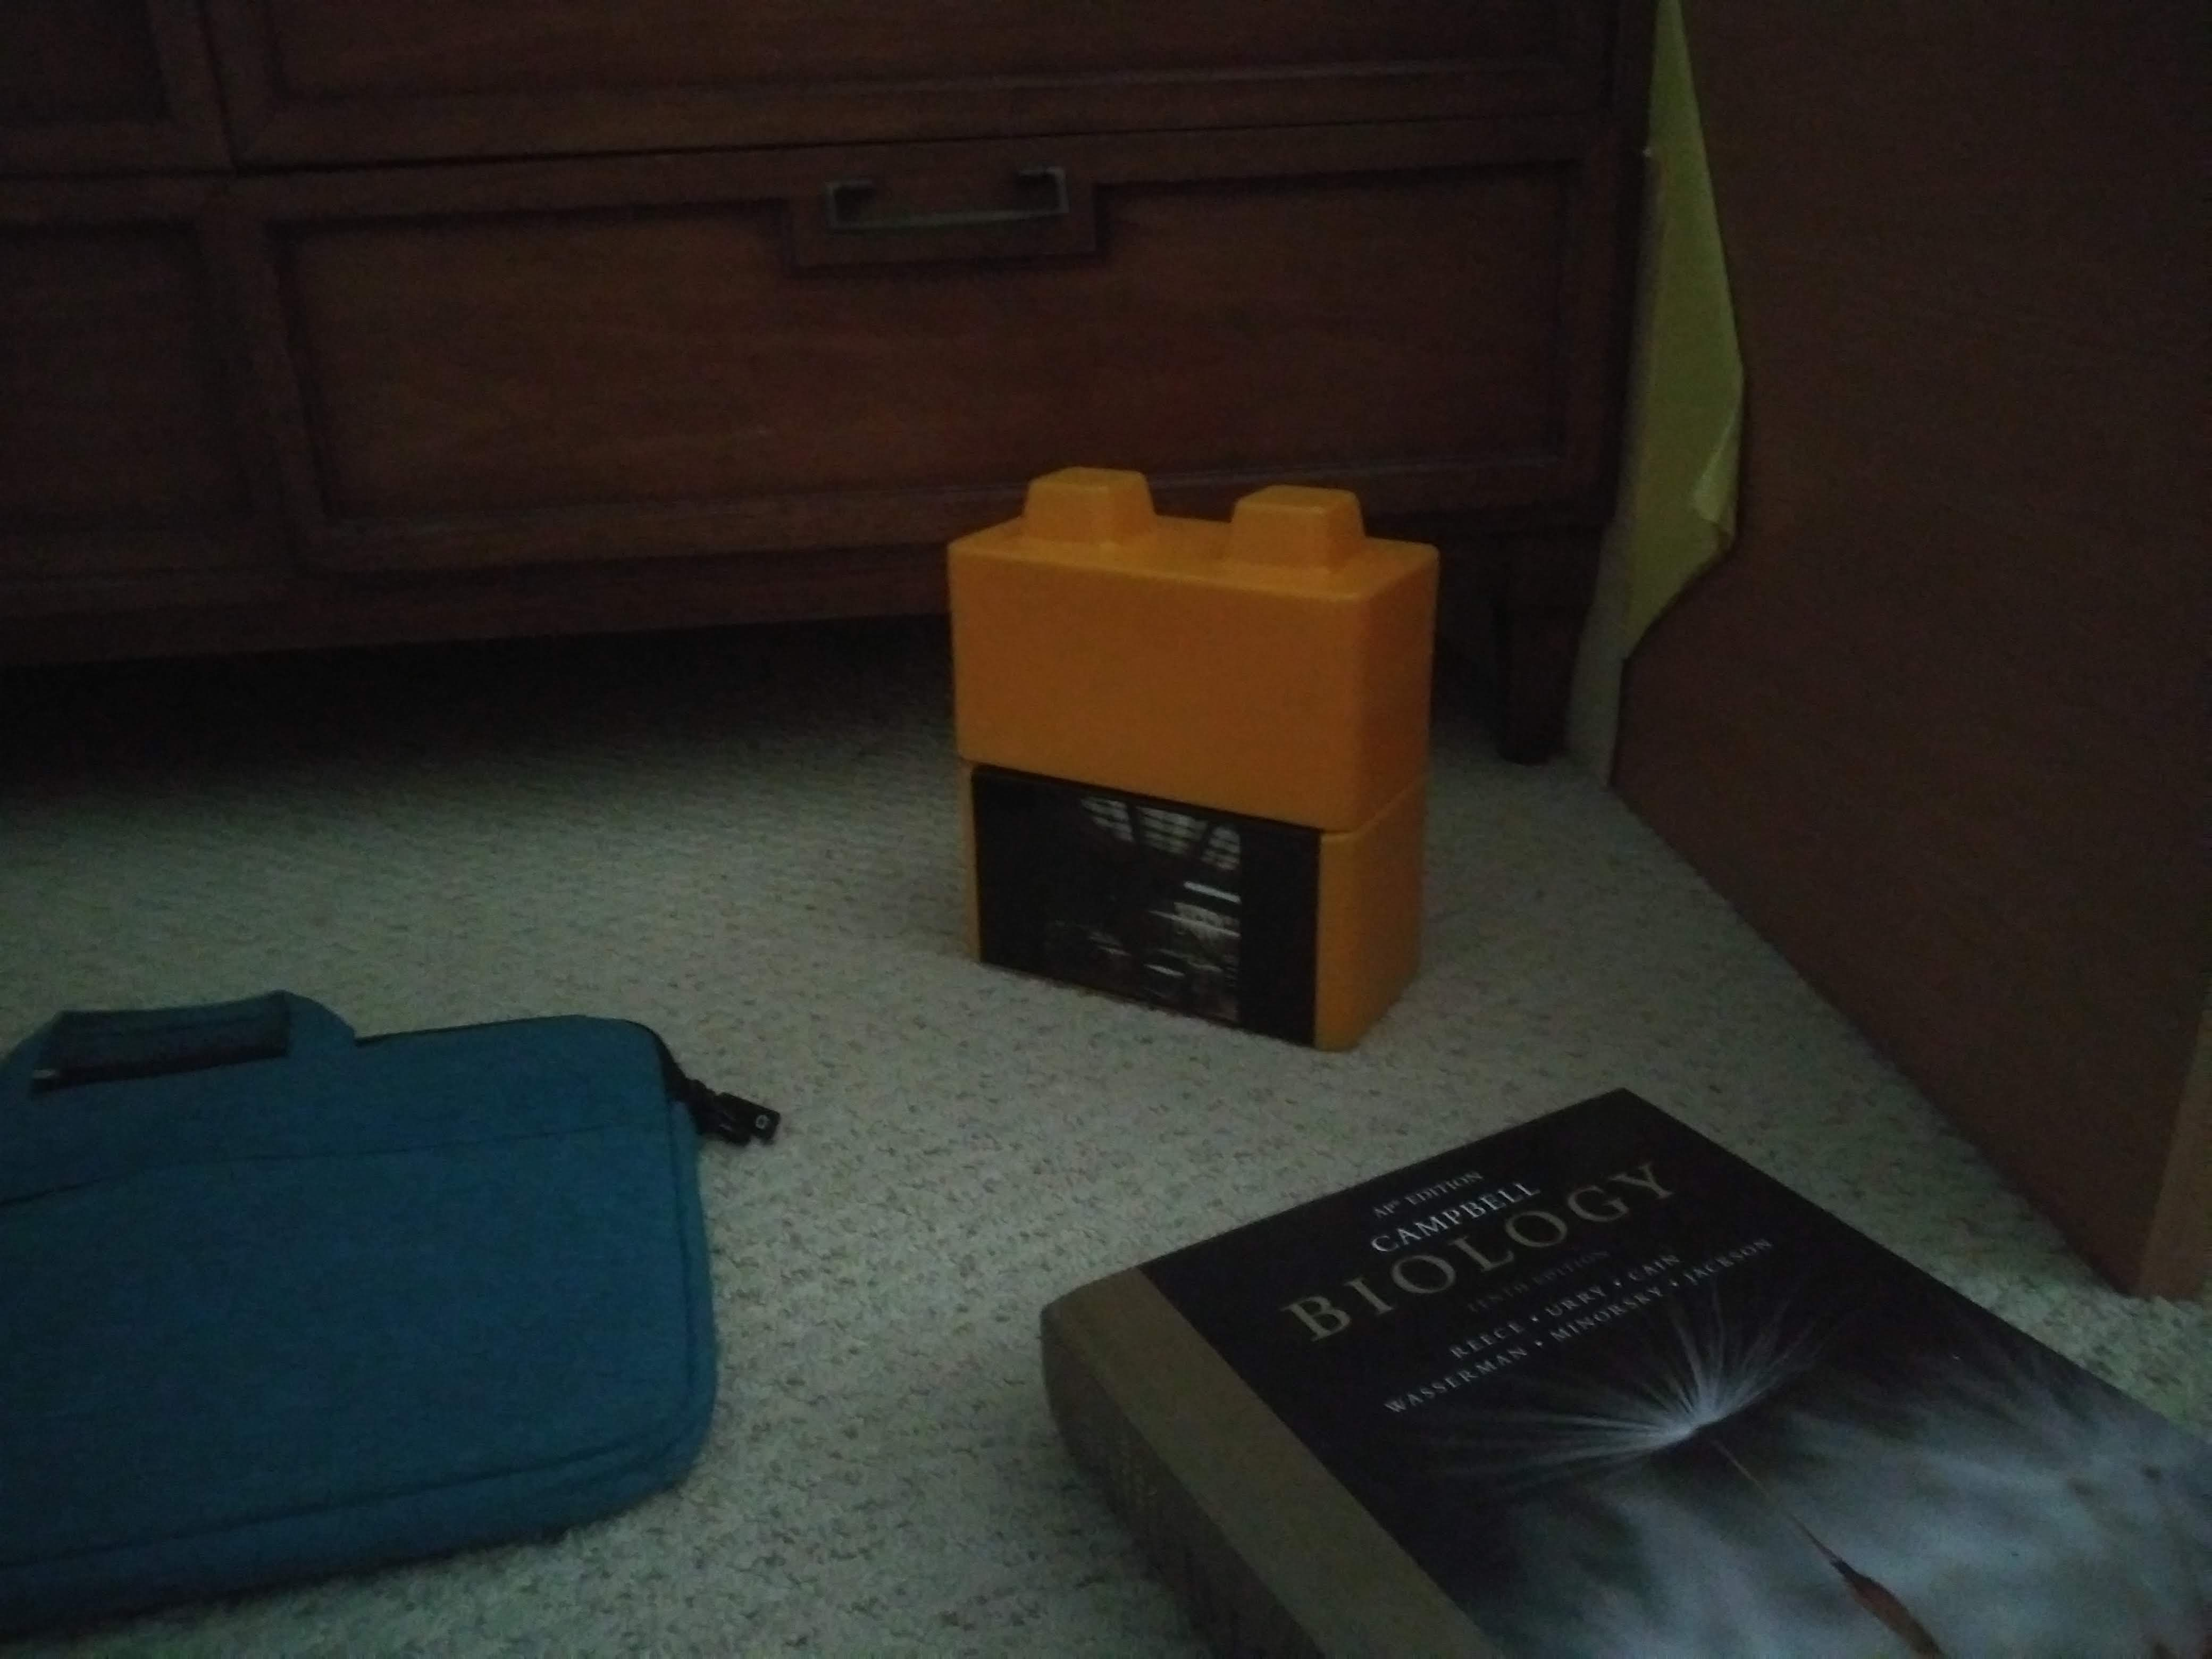skystone: (951, 800, 1406, 1042)
stone: (930, 511, 1413, 782)
